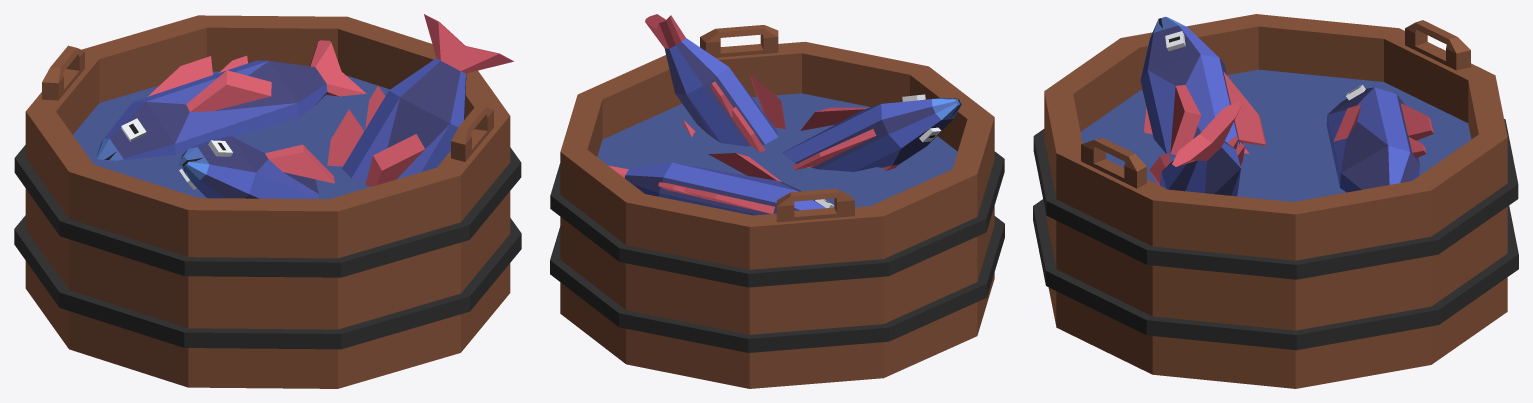
File: barrel_with_fish.fbx
3 views of the same model, side by side, from view 1: azimuth 30°, elevation 25°; view 2: azimuth 150°, elevation 25°; view 3: azimuth 270°, elevation 25° (orthographic). The views are drawn at different scales.
Parts seen in each view (by area): view 1: barrel_with_fish; view 2: barrel_with_fish; view 3: barrel_with_fish.
Part boxes in pixels (<box>): barrel_with_fish: <box>14,14,521,388</box>; barrel_with_fish: <box>550,14,1004,388</box>; barrel_with_fish: <box>1033,14,1518,388</box>.
Size of the model in its own units: 186 by 104 by 181.
